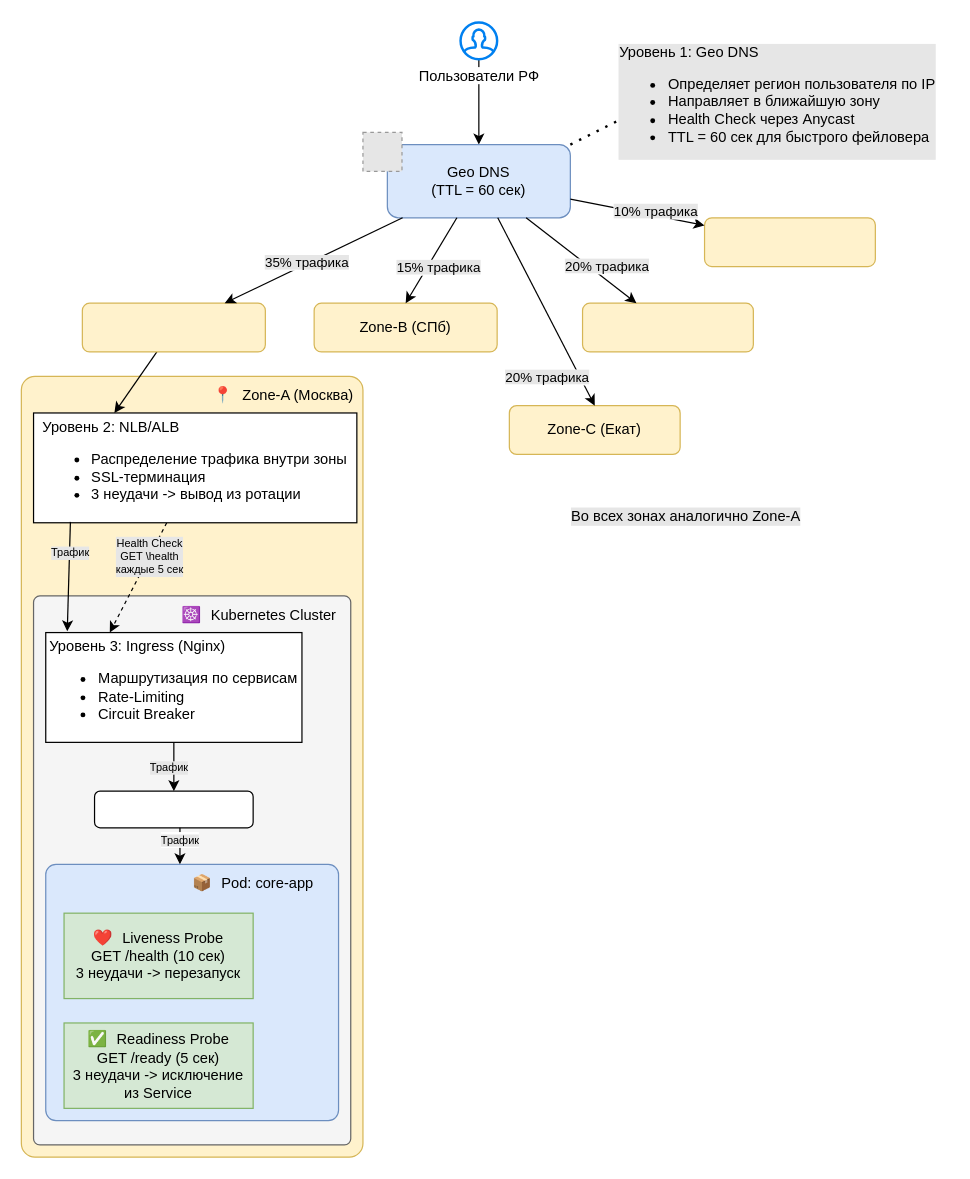
Some shapes in this 970 by 1179 pixel diagram are drawn without their labels. Grey dashed boxes stand in for pictures. The shapes that lost their labels are listed below. From the top down, each one's centre as x and y in pixels, then its label:
pixel 789 242: Zone-E (Владик)
pixel 173 327: Zone-A (Москва)
pixel 667 327: Zone-D (Новосиб)
pixel 173 809: Service (core-app)
